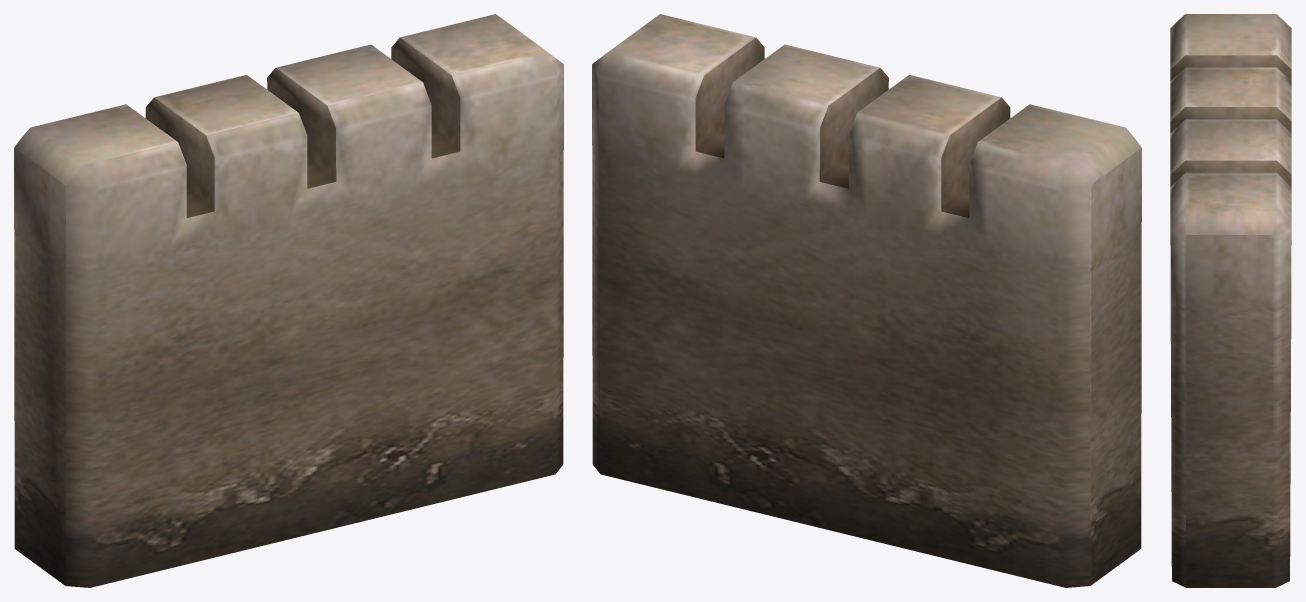
The model's file is stwa13.dae.
3 renders of one model, left to right at view 1: azimuth 30°, elevation 25°; view 2: azimuth 150°, elevation 25°; view 3: azimuth 270°, elevation 25°, orthographic. The views are drawn at different scales.
Parts seen in each view (by area): view 1: wall2; view 2: wall2; view 3: wall2.
Boxes of the visible parts, x1,y1,x2,y2 form: wall2: [14, 14, 563, 587]; wall2: [592, 14, 1141, 587]; wall2: [1170, 14, 1291, 587].
Bounding box in the file's own units: 1.7 × 0.4065 × 1.36.
Materials: 1 (1 with a texture image).
